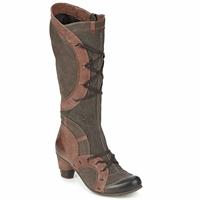shoe: (49, 2, 141, 194)
